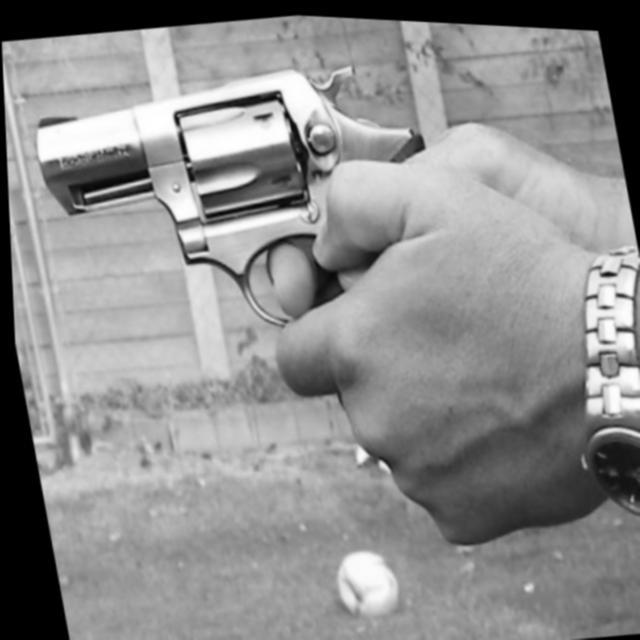weapon: (22, 46, 476, 383)
